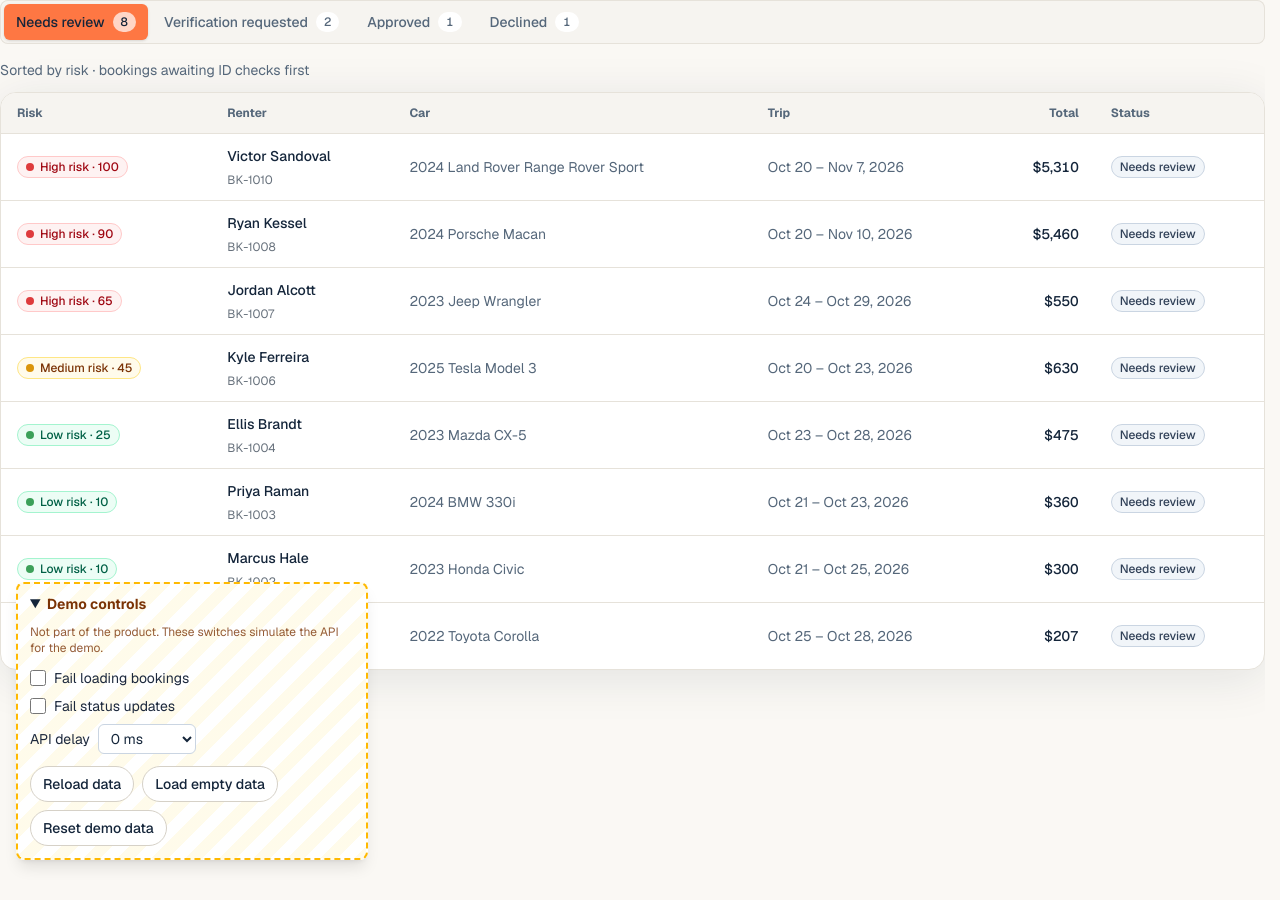
it: Recommendations in the drawer › RC-09: verification requested with the ID still pending keeps Approve disabled
Expected: the element named "Booking status" is shown, [0,0,1265,44]
Click the tab "Verification requested 2" at (252, 22), box [152,4,351,40]
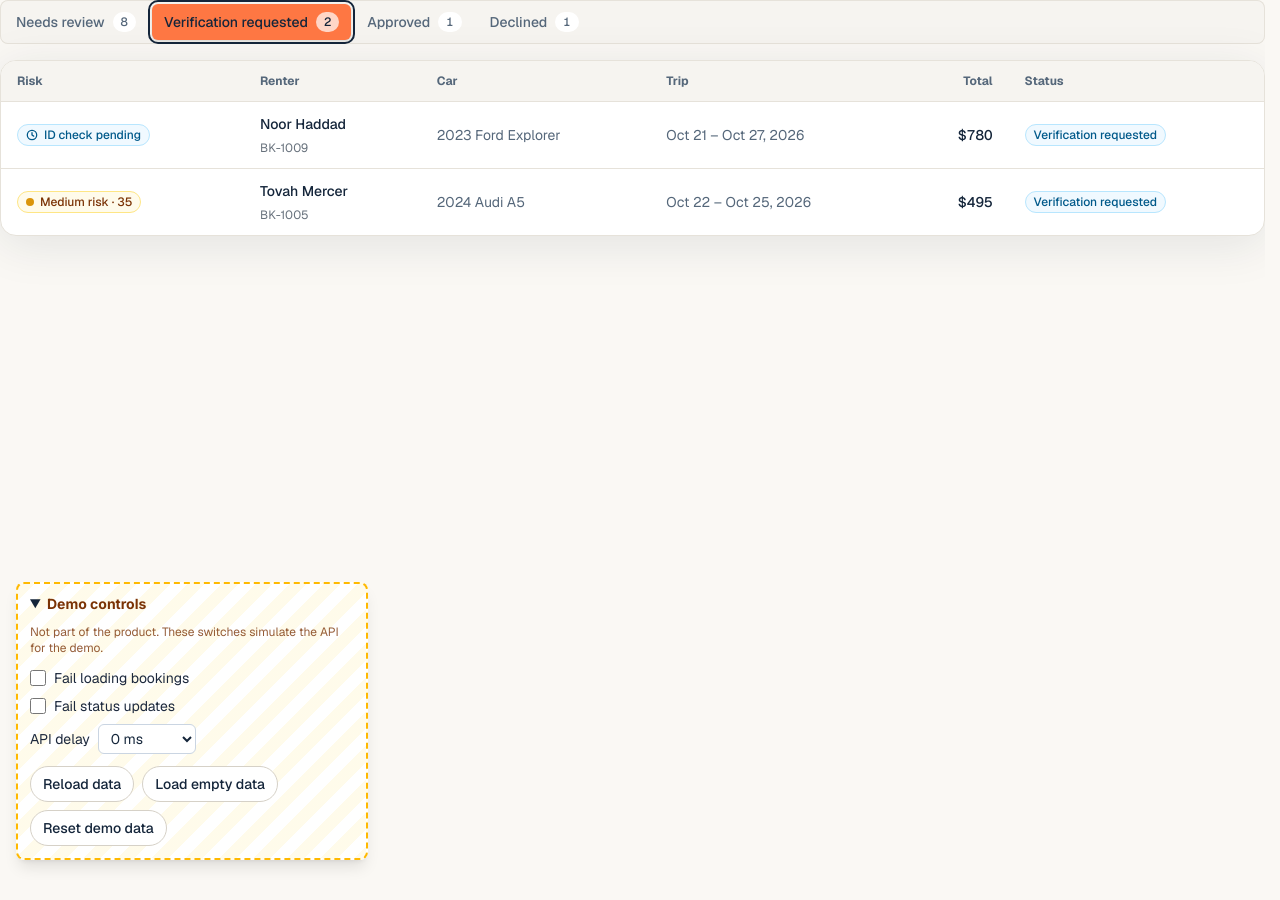
Click the button "Noor Haddad" at (303, 124), box [260,114,346,134]
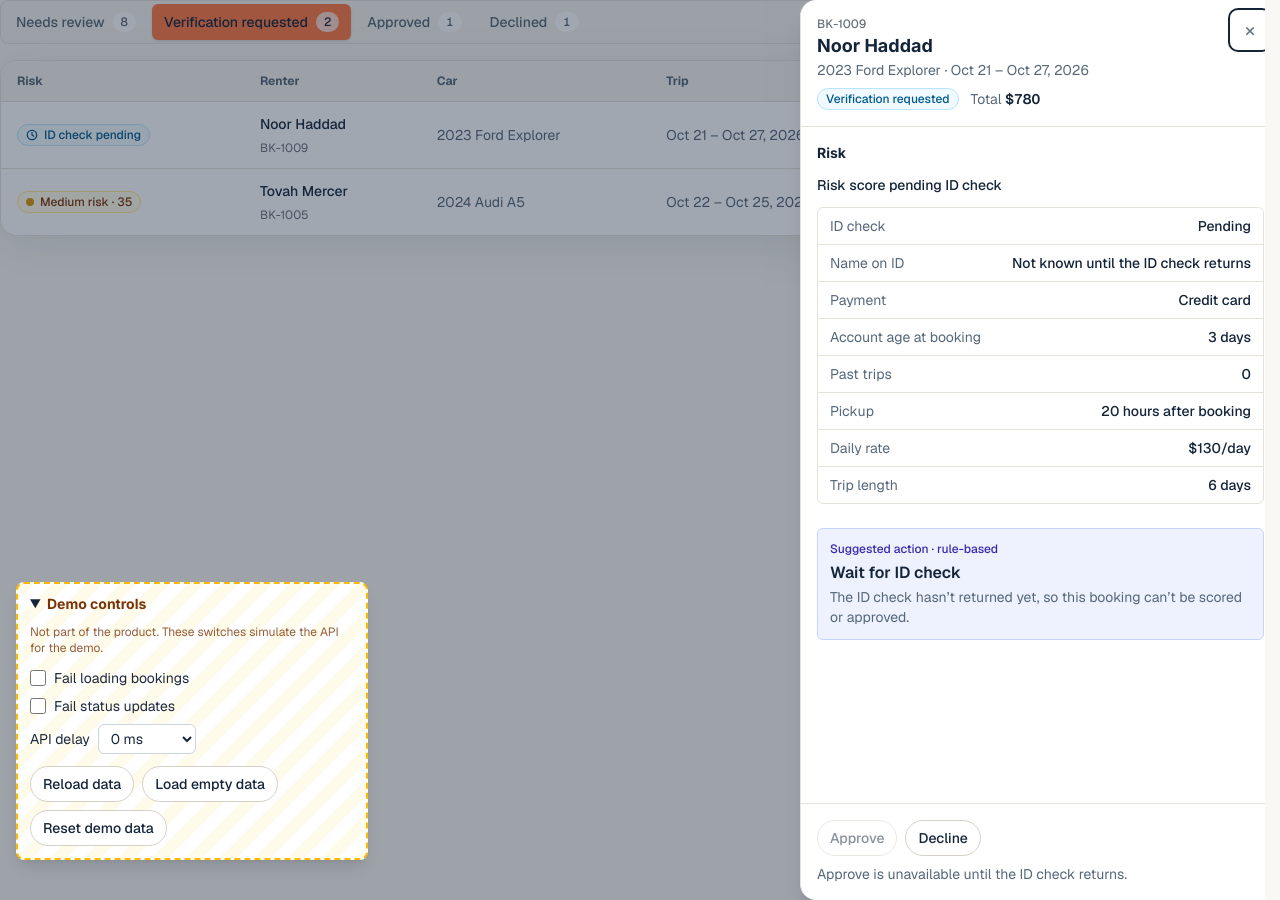
Result: the element "Suggested action · rule-based" shows "Wait for ID check" at [830,562,961,583]
Result: the button "Approve" is disabled at [817,820,898,856]
Result: the text "Approve is unavailable until the ID check returns." is shown at [817,865,1127,883]
